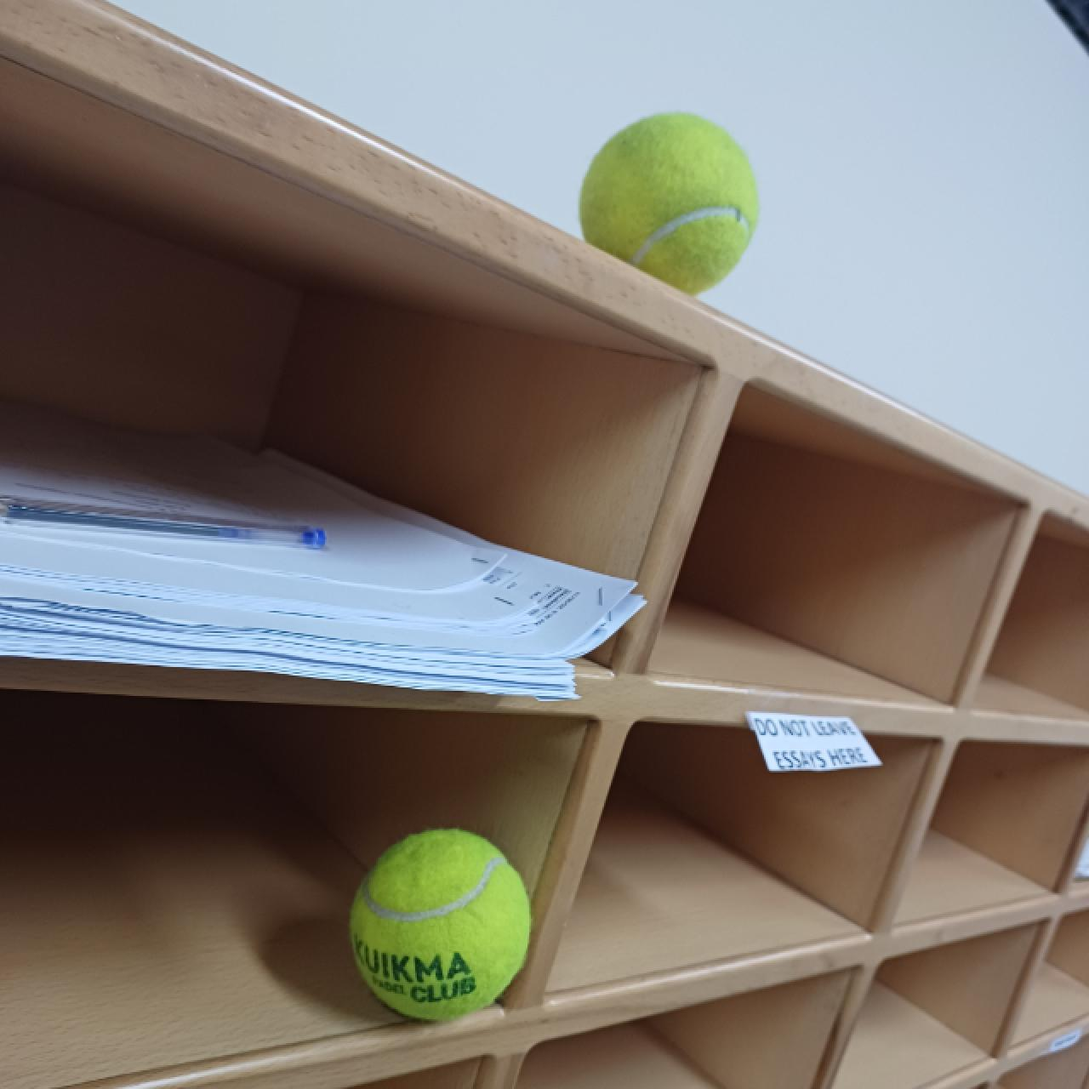tennis-ball: (351, 829, 532, 1022), (580, 110, 758, 297)
